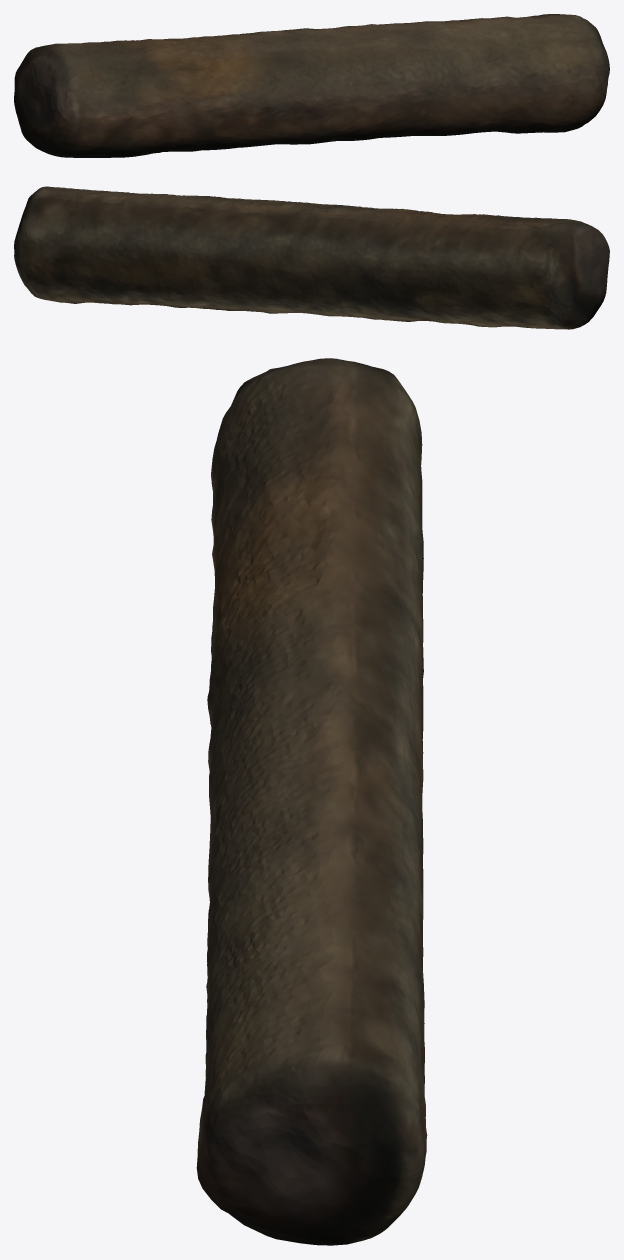
Rendered from 071-c_nine_hole_peg_test_textured.dae.
3 renders of one model, top to bottom at view 1: azimuth 30°, elevation 25°; view 2: azimuth 150°, elevation 25°; view 3: azimuth 270°, elevation 25°, orthographic. The views are drawn at different scales.
Visible parts, largest first — view 1: node; view 2: node; view 3: node.
Part boxes in pixels (x1,y1,x2,y2): node: (14, 14, 609, 157); node: (14, 186, 609, 329); node: (196, 358, 427, 1245).
Bounding box in the file's own units: 0.0379 × 0.0125 × 0.00667.
Materials: 1 (1 with a texture image).
